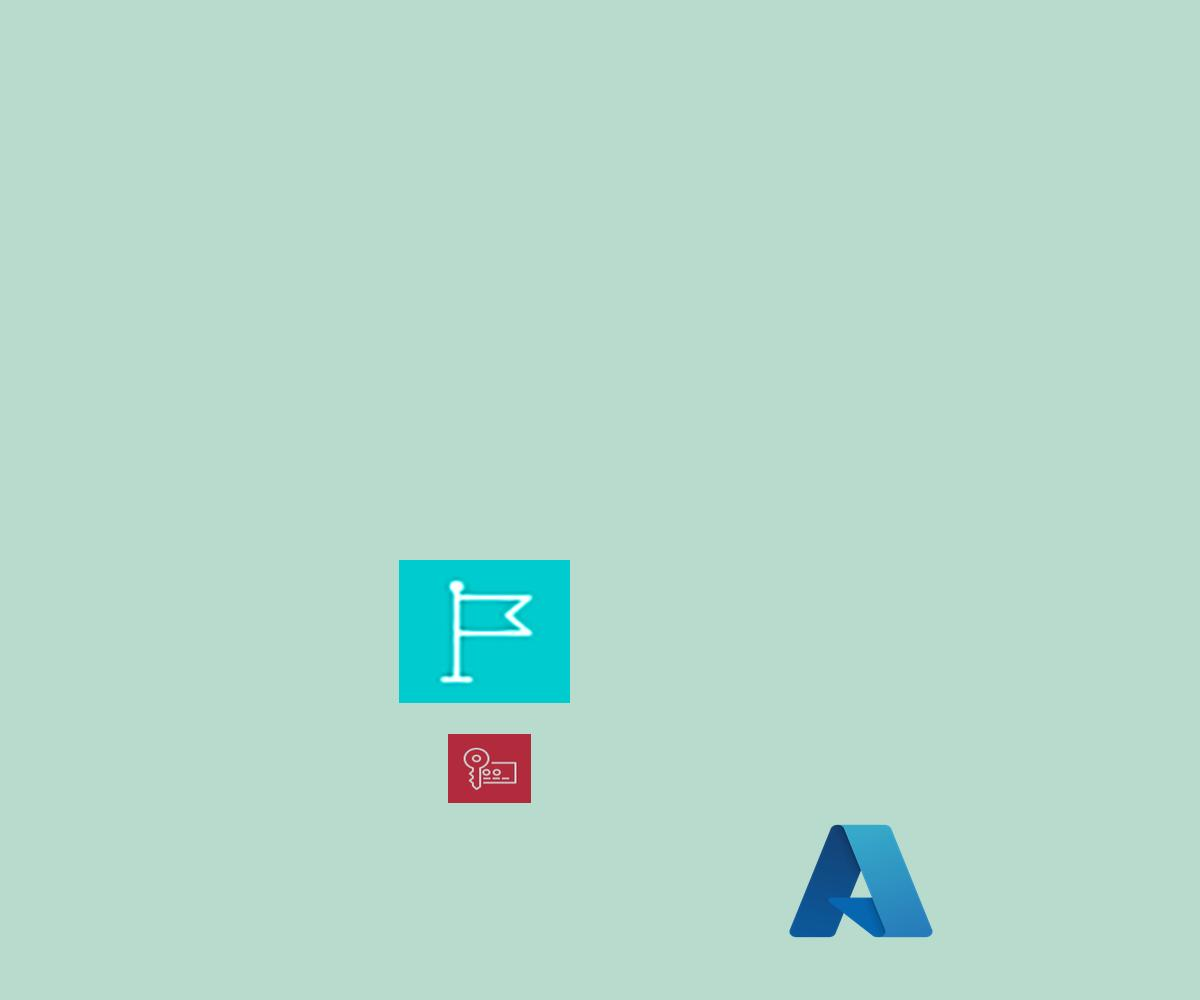AWS-Key-Management-Service: (448, 734, 531, 803)
AWS-Region: (399, 560, 570, 703)
Azure_services: (783, 816, 939, 946)
